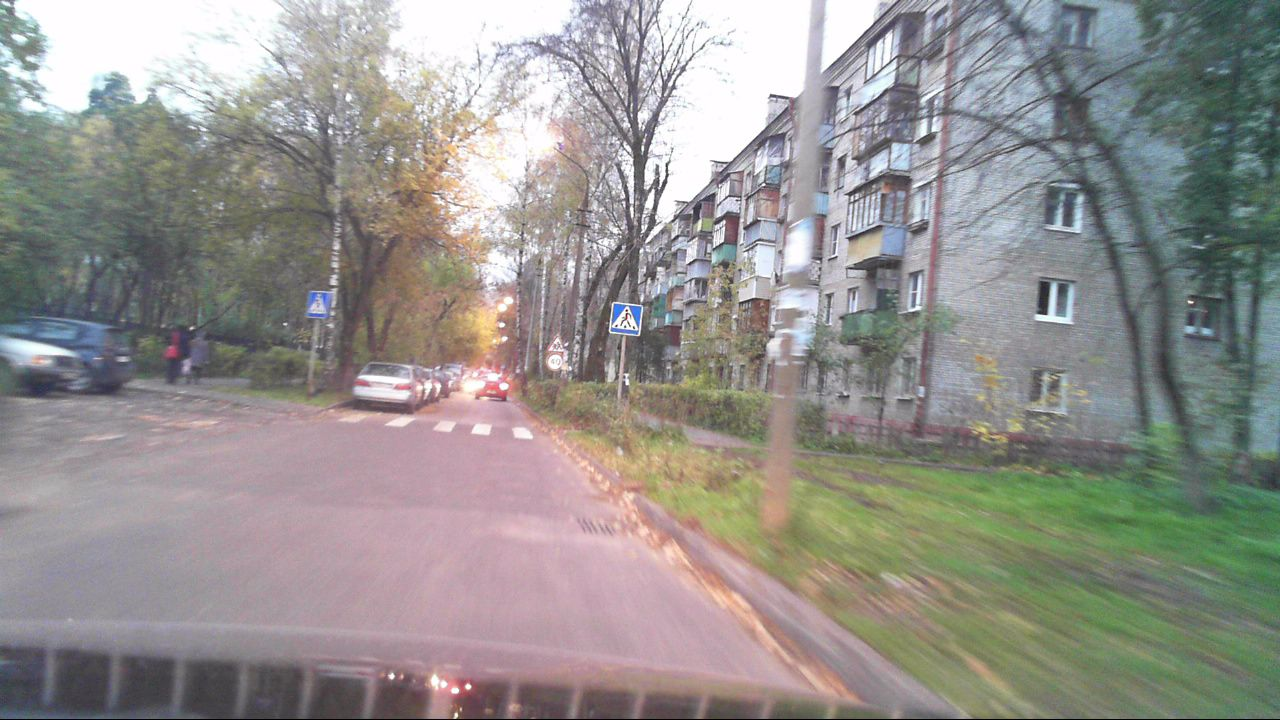speed_warning_40: (546, 354, 562, 371)
